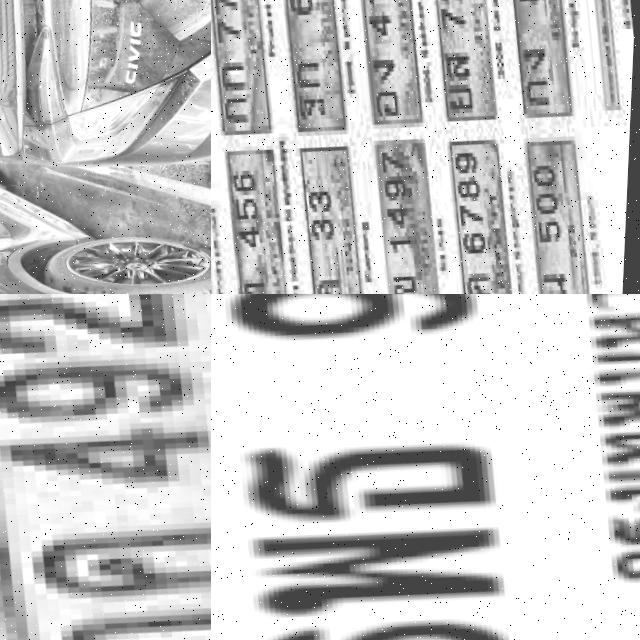license-plate: (211, 294, 640, 640), (0, 294, 211, 640), (363, 115, 462, 294), (514, 122, 608, 294), (439, 127, 532, 294), (292, 133, 380, 294), (219, 134, 307, 294), (267, 0, 361, 136), (344, 0, 437, 125), (493, 0, 589, 117), (422, 0, 509, 121), (211, 0, 283, 136), (211, 133, 234, 294)
